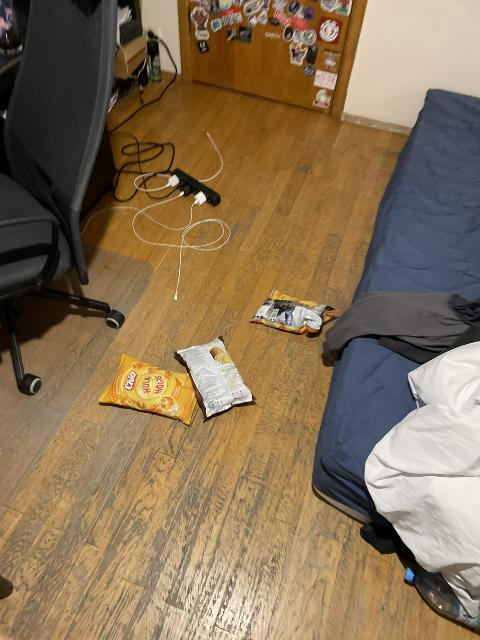Chio Cascaval 125g: (250, 289, 332, 332)
Chio Hula Hoops Cheese 70g: (98, 354, 200, 425)
Lays Beef Grilled Ribs 125g: (173, 338, 258, 419)
